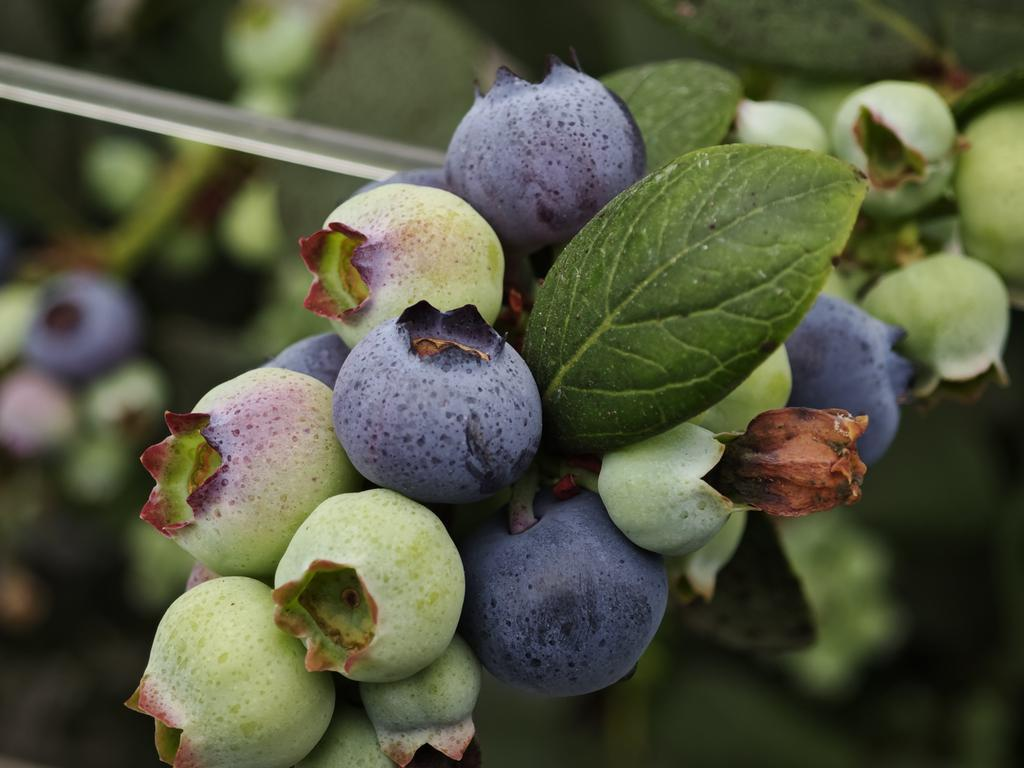RipeBlueBerry: (329, 310, 553, 506), (464, 494, 663, 692), (444, 68, 641, 236)
Semi-RipeBlueBerry: (152, 364, 334, 570)
UnripeBlueBerry: (127, 581, 329, 768), (288, 493, 456, 676), (313, 187, 508, 344), (603, 439, 751, 552)
